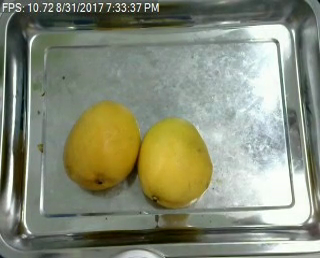Mango: (62, 101, 140, 192), (139, 118, 212, 205)
